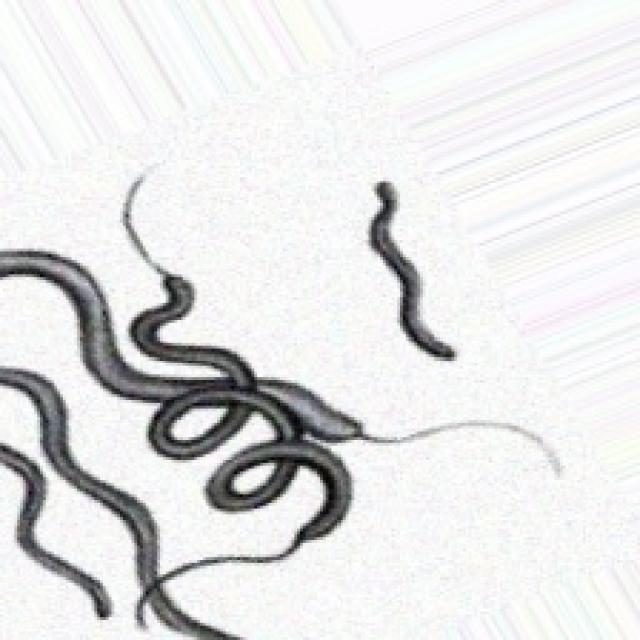Spiral_bacteria: (0, 163, 563, 637)
